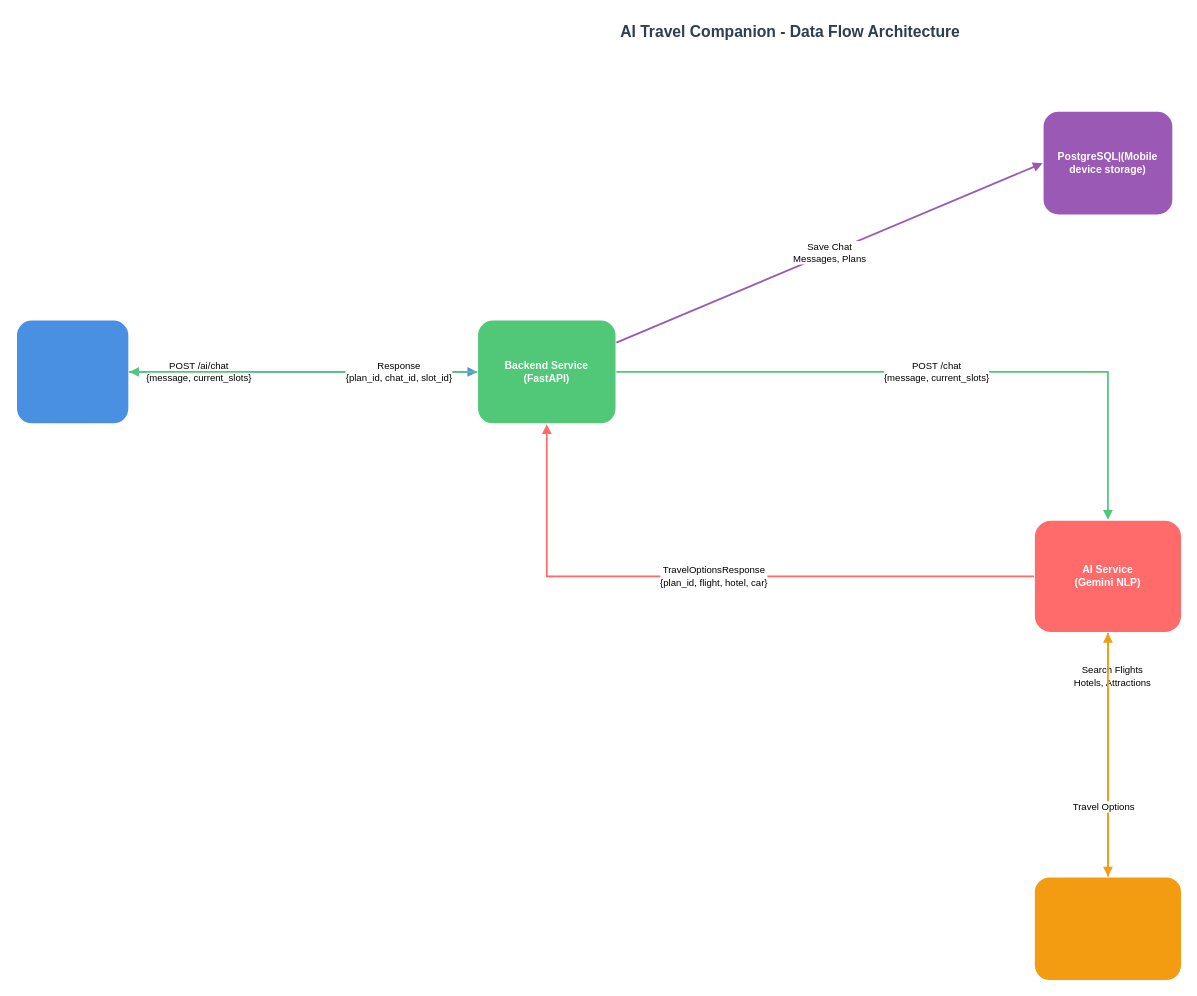
Some shapes in this 1197 by 996 pixel diagram are drawn without their labels. Here are the shapes that lost their labels. From the top down, the centre of each, then its label:
(x=72, y=371): Frontend (Mobile app)
(x=1107, y=928): Amadeus API (Flights/Hotels)
